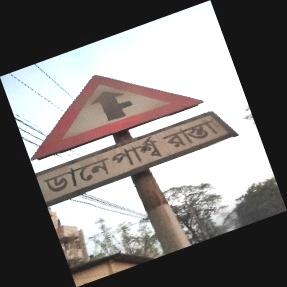Side-road-right: (26, 75, 234, 208)
